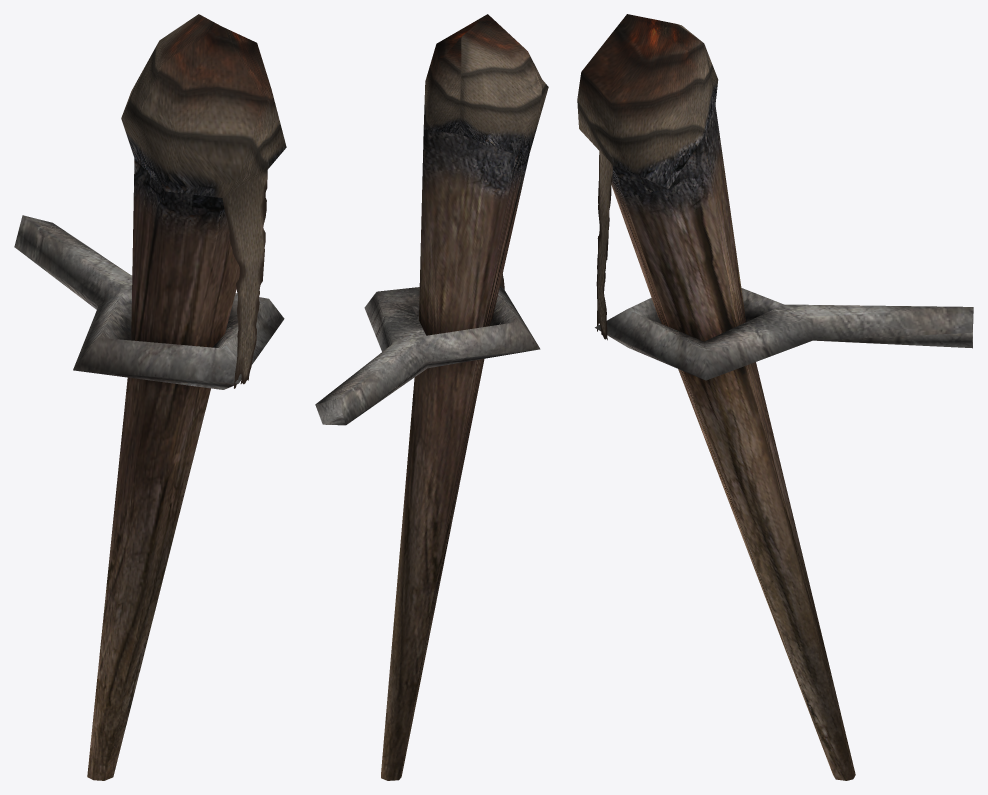
File: wallTorch.FBX
3 views of the same model, side by side, from view 1: azimuth 30°, elevation 25°; view 2: azimuth 150°, elevation 25°; view 3: azimuth 270°, elevation 25° (orthographic). The views are drawn at different scales.
Visible parts, largest first — view 1: d_torch-v2; view 2: d_torch-v2; view 3: d_torch-v2.
Boxes of the visible parts, x1=… form: d_torch-v2: x1=14, y1=14, x2=286, y2=780; d_torch-v2: x1=315, y1=14, x2=548, y2=780; d_torch-v2: x1=577, y1=14, x2=973, y2=780.
Size of the model in its own units: 15.83 by 59.51 by 28.02.
1 material, 1 textured.
